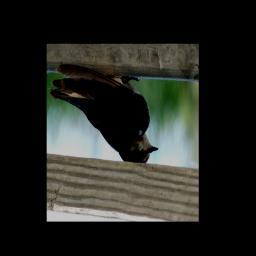Swallow: (50, 63, 159, 164)
